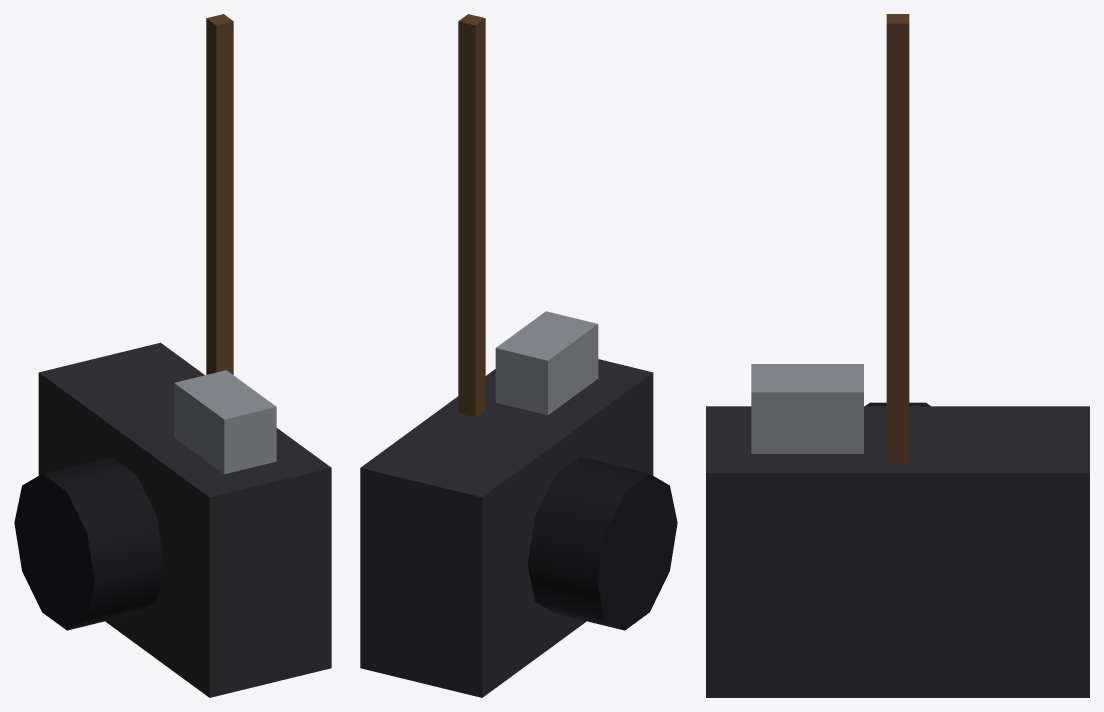
File: camera.glb
3 renders of one model, left to right at view 1: azimuth 30°, elevation 25°; view 2: azimuth 150°, elevation 25°; view 3: azimuth 270°, elevation 25°, orthographic. The views are drawn at different scales.
Visible parts, largest first — view 1: #2a2a2e, #16161a, #5a3e26_noshadow, #8a8e92 metal 0.6 rough 0.4; view 2: #2a2a2e, #16161a, #5a3e26_noshadow, #8a8e92 metal 0.6 rough 0.4; view 3: #2a2a2e, #5a3e26_noshadow, #8a8e92 metal 0.6 rough 0.4.
Boxes of the visible parts, x1,y1,x2,y2 form: #2a2a2e: [38, 342, 331, 697]; #16161a: [14, 457, 164, 630]; #5a3e26_noshadow: [206, 14, 233, 374]; #8a8e92 metal 0.6 rough 0.4: [174, 370, 276, 474]; #2a2a2e: [360, 359, 653, 697]; #16161a: [527, 457, 677, 630]; #5a3e26_noshadow: [458, 14, 485, 417]; #8a8e92 metal 0.6 rough 0.4: [495, 311, 598, 415]; #2a2a2e: [706, 406, 1089, 697]; #5a3e26_noshadow: [886, 14, 909, 463]; #8a8e92 metal 0.6 rough 0.4: [751, 364, 863, 453].
Bounding box in the file's own units: 0.11 × 0.325 × 0.17.
